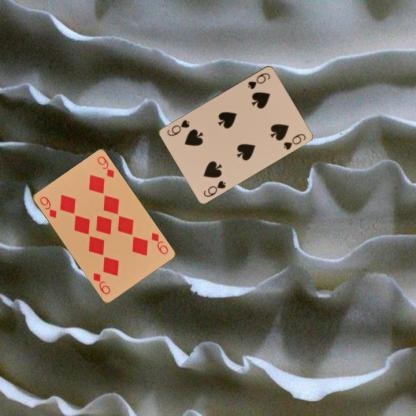6s: (245, 70, 272, 90), (201, 178, 227, 198)
9d: (148, 230, 170, 255), (37, 194, 58, 220)
